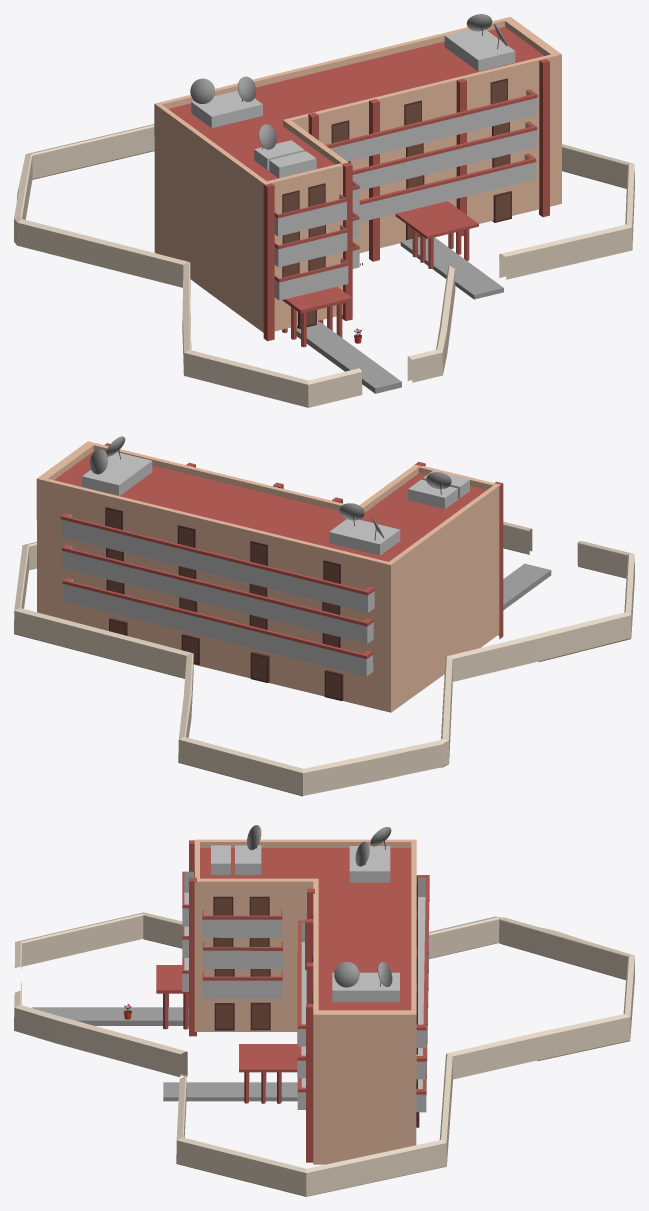
The model's file is Municipal Merged .fbx.
The picture shows the model from 3 angles, top to bottom: view 1: azimuth 30°, elevation 25°; view 2: azimuth 150°, elevation 25°; view 3: azimuth 270°, elevation 25°; orthographic projection.
Visible parts, largest first — view 1: NEW BUILDING, Wall; view 2: NEW BUILDING, Wall; view 3: NEW BUILDING, Wall.
Part boxes in pixels (box(x1,y1,x2,y2)): NEW BUILDING: box(154, 14, 561, 393); Wall: box(14, 124, 634, 407); NEW BUILDING: box(36, 436, 551, 712); Wall: box(14, 521, 634, 796); NEW BUILDING: box(32, 825, 429, 1164); Wall: box(14, 912, 634, 1196).
Size of the model in its own units: 304 by 102 by 306.
